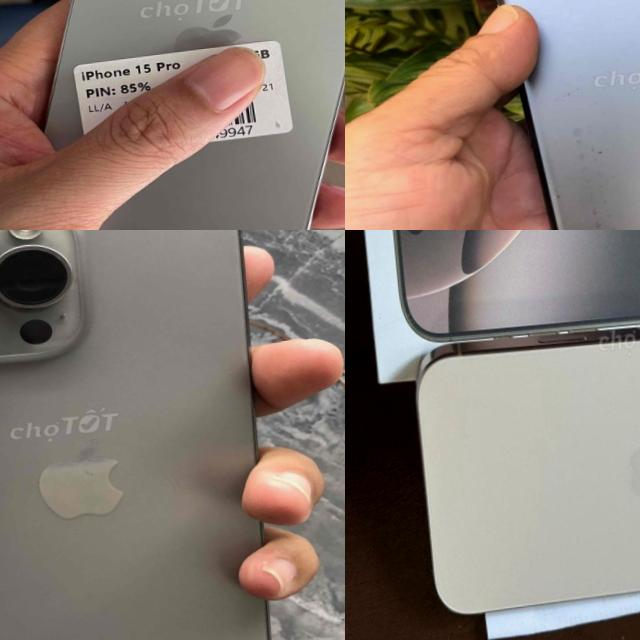gen_11: (498, 0, 640, 230)
gen_15: (0, 230, 305, 640), (0, 0, 345, 230)
gen_16: (407, 299, 640, 629)
